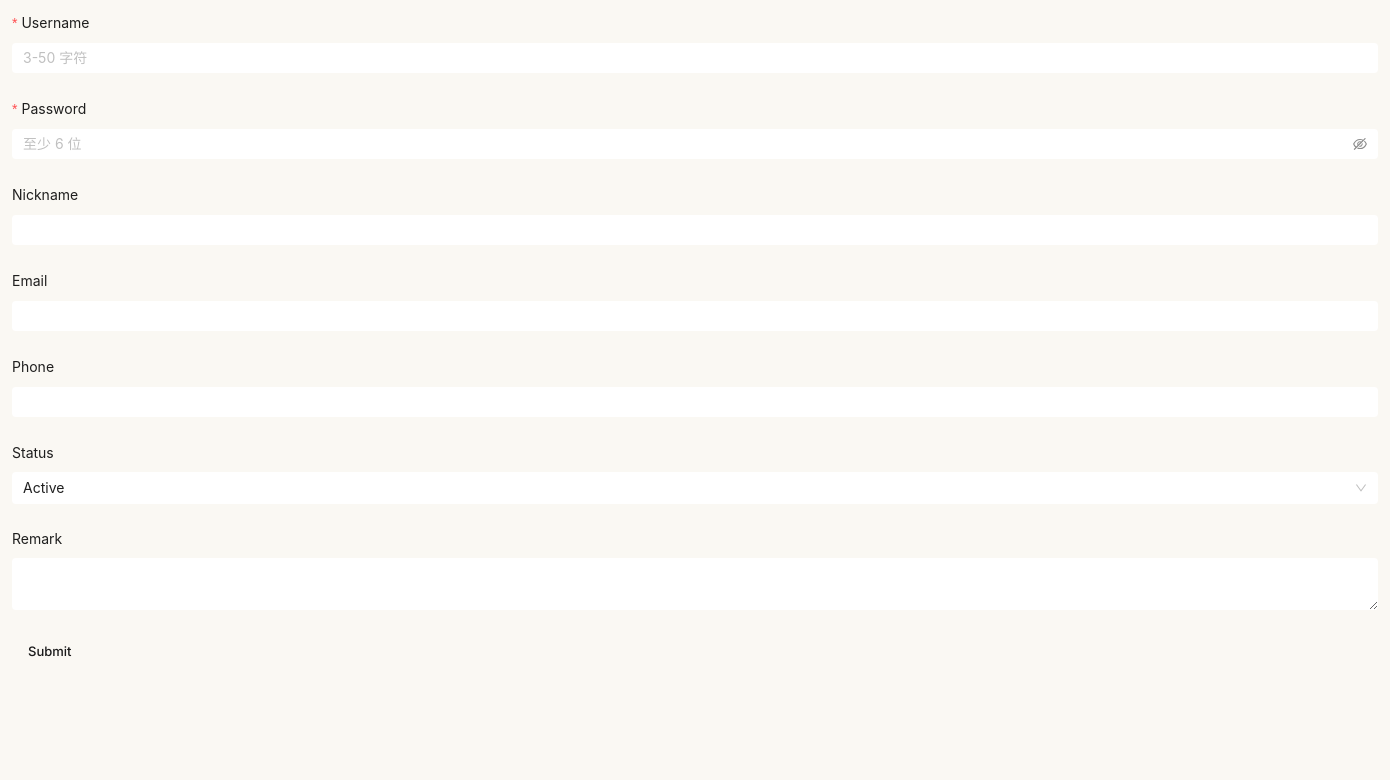
Test case: <UserForm /> › requires username and password in create mode
Expected: the password field labelled "Password" is shown, [23,133,1349,155]
Click the button "Submit". click: (50, 651)
box: [12,634,88,668]
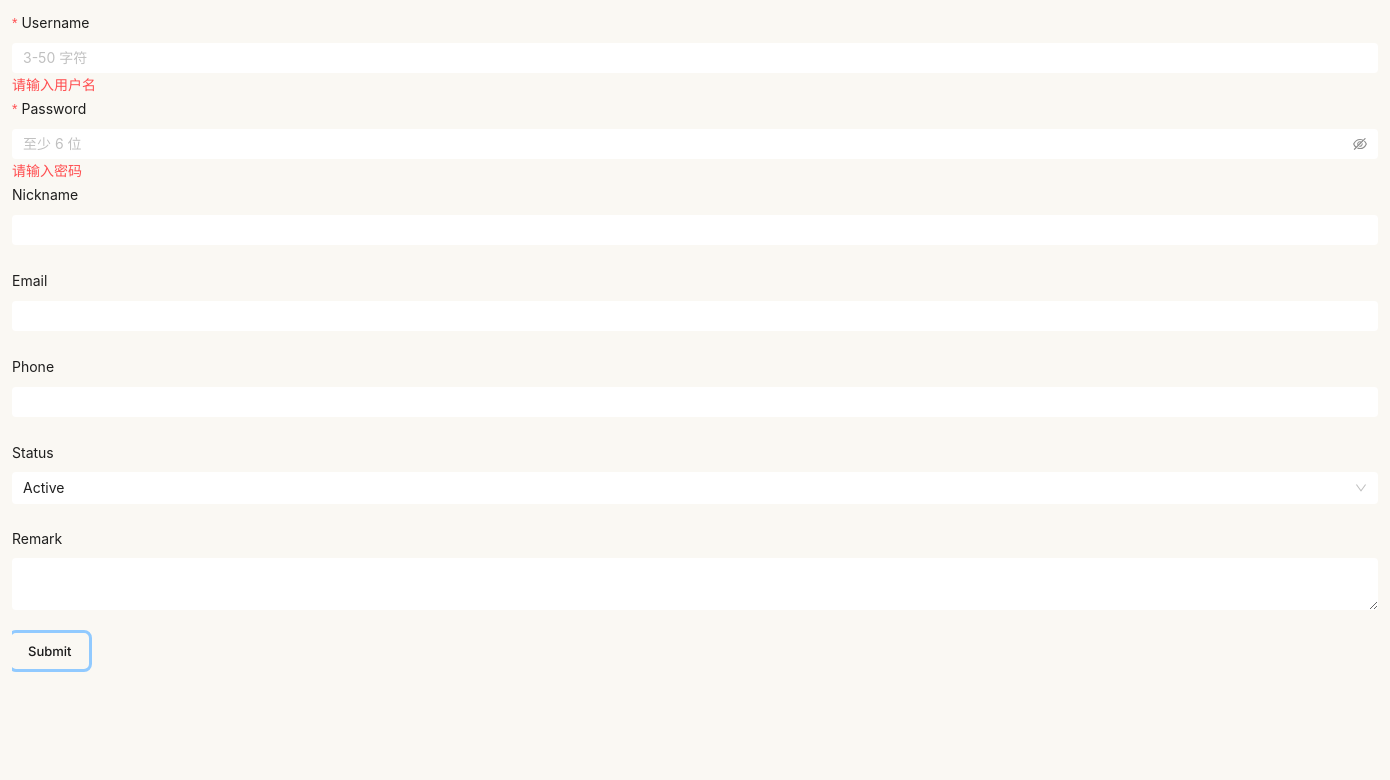
Now the text "请输入用户名" is shown, box [12,76,96,93]
Now the text "请输入密码" is shown, box [12,162,82,179]
